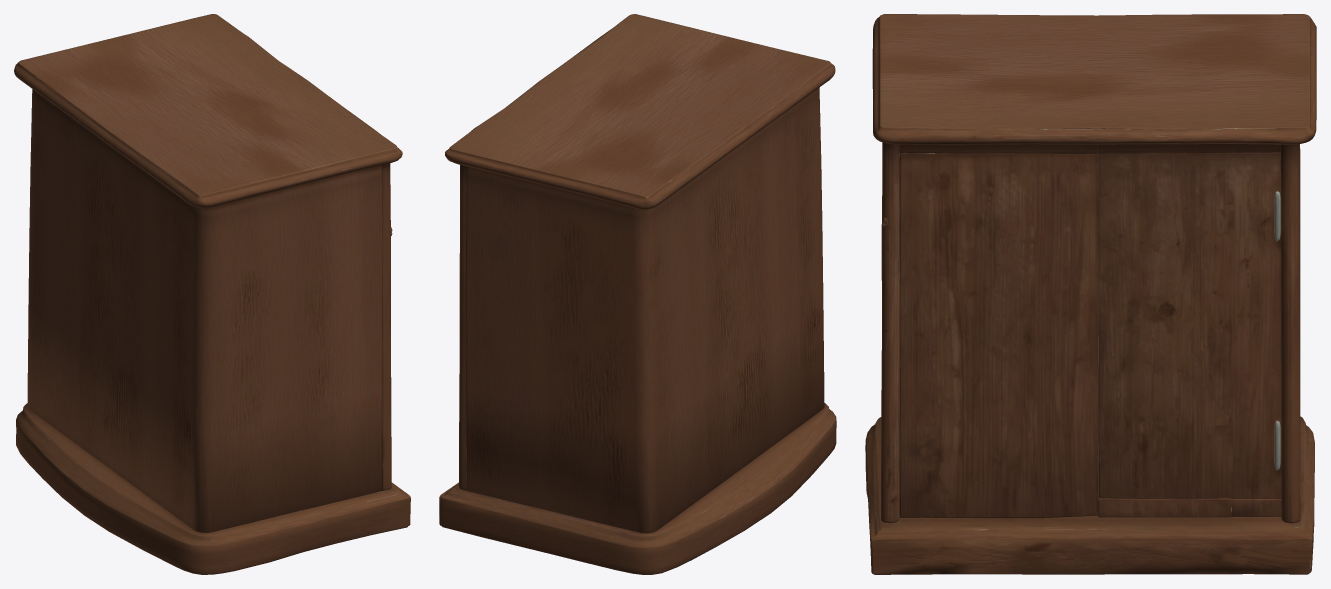
File: cartridge-table.glb
The picture shows the model from 3 angles, left to right: view 1: azimuth 30°, elevation 25°; view 2: azimuth 150°, elevation 25°; view 3: azimuth 270°, elevation 25°; orthographic projection. The views are drawn at different scales.
Visible parts, largest first — view 1: tripo_node_74518be1-b573-43eb-9295-3092195bfb79; view 2: tripo_node_74518be1-b573-43eb-9295-3092195bfb79; view 3: tripo_node_74518be1-b573-43eb-9295-3092195bfb79.
Part boxes in pixels (bbox=[...]): tripo_node_74518be1-b573-43eb-9295-3092195bfb79: bbox=[14, 14, 410, 574]; tripo_node_74518be1-b573-43eb-9295-3092195bfb79: bbox=[439, 14, 836, 574]; tripo_node_74518be1-b573-43eb-9295-3092195bfb79: bbox=[865, 14, 1316, 574].
Bounding box in the file's own units: 0.6528 × 0.9995 × 0.9214.
1 material, 1 textured.
